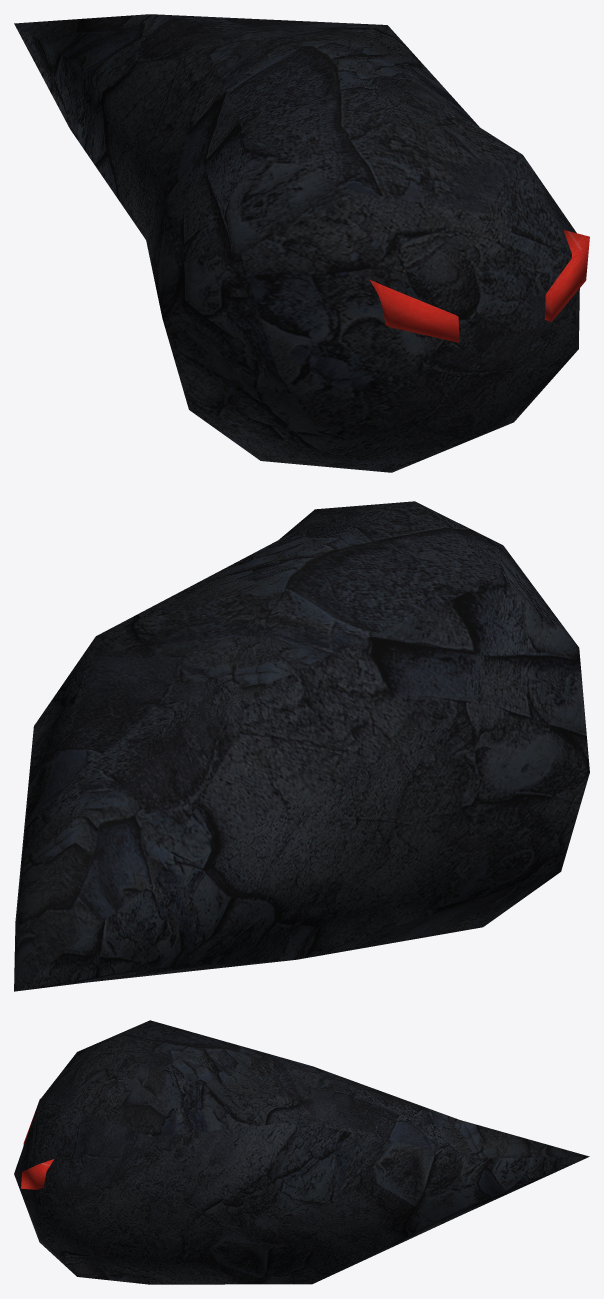
File: eel1.obj
The picture shows the model from 3 angles, top to bottom: view 1: azimuth 30°, elevation 25°; view 2: azimuth 150°, elevation 25°; view 3: azimuth 270°, elevation 25°; orthographic projection. The views are drawn at different scales.
Visible parts, largest first — view 1: Icosphere; view 2: Icosphere; view 3: Icosphere.
Boxes of the visible parts, bbox=[...] form: Icosphere: bbox=[14, 14, 589, 472]; Icosphere: bbox=[14, 501, 589, 991]; Icosphere: bbox=[14, 1020, 589, 1284].
Bounding box in the file's own units: 2.23 × 1.9 × 4.33.
2 materials, 2 textured.
